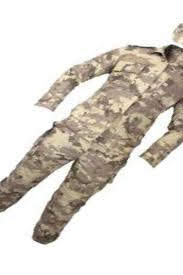uniform: (3, 25, 183, 248)
